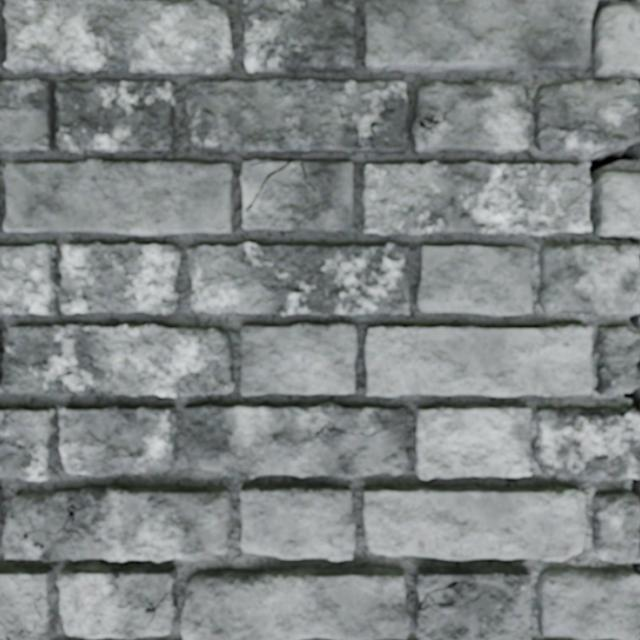brick: (0, 160, 233, 236), (0, 0, 233, 75), (0, 485, 231, 560), (0, 324, 234, 396), (187, 80, 409, 155), (363, 162, 591, 235), (365, 0, 596, 72), (363, 486, 585, 560), (185, 404, 406, 478), (182, 567, 409, 639), (188, 243, 410, 316), (366, 325, 592, 396), (0, 243, 181, 316), (0, 80, 174, 154), (58, 565, 176, 639), (416, 404, 532, 478), (412, 82, 530, 154), (241, 486, 355, 560), (416, 566, 530, 639), (242, 0, 356, 72), (242, 324, 356, 395), (58, 406, 175, 475), (416, 245, 531, 315), (241, 162, 354, 230), (0, 406, 57, 480), (0, 566, 56, 639), (592, 6, 639, 75), (594, 174, 639, 237)
broken_brick: (532, 79, 639, 154), (532, 406, 639, 480), (535, 565, 639, 639), (537, 244, 639, 317), (592, 488, 639, 564), (593, 323, 639, 396)
crack: (245, 160, 291, 212), (418, 578, 486, 612), (0, 594, 50, 639), (586, 142, 639, 184), (415, 102, 456, 135), (591, 62, 639, 85), (591, 0, 638, 23), (301, 162, 317, 191), (598, 235, 639, 245), (624, 386, 639, 411), (631, 477, 639, 503), (6, 1, 31, 9), (629, 314, 639, 329), (631, 562, 639, 574), (0, 106, 22, 110), (527, 466, 533, 473), (636, 358, 639, 371), (539, 631, 544, 634)
